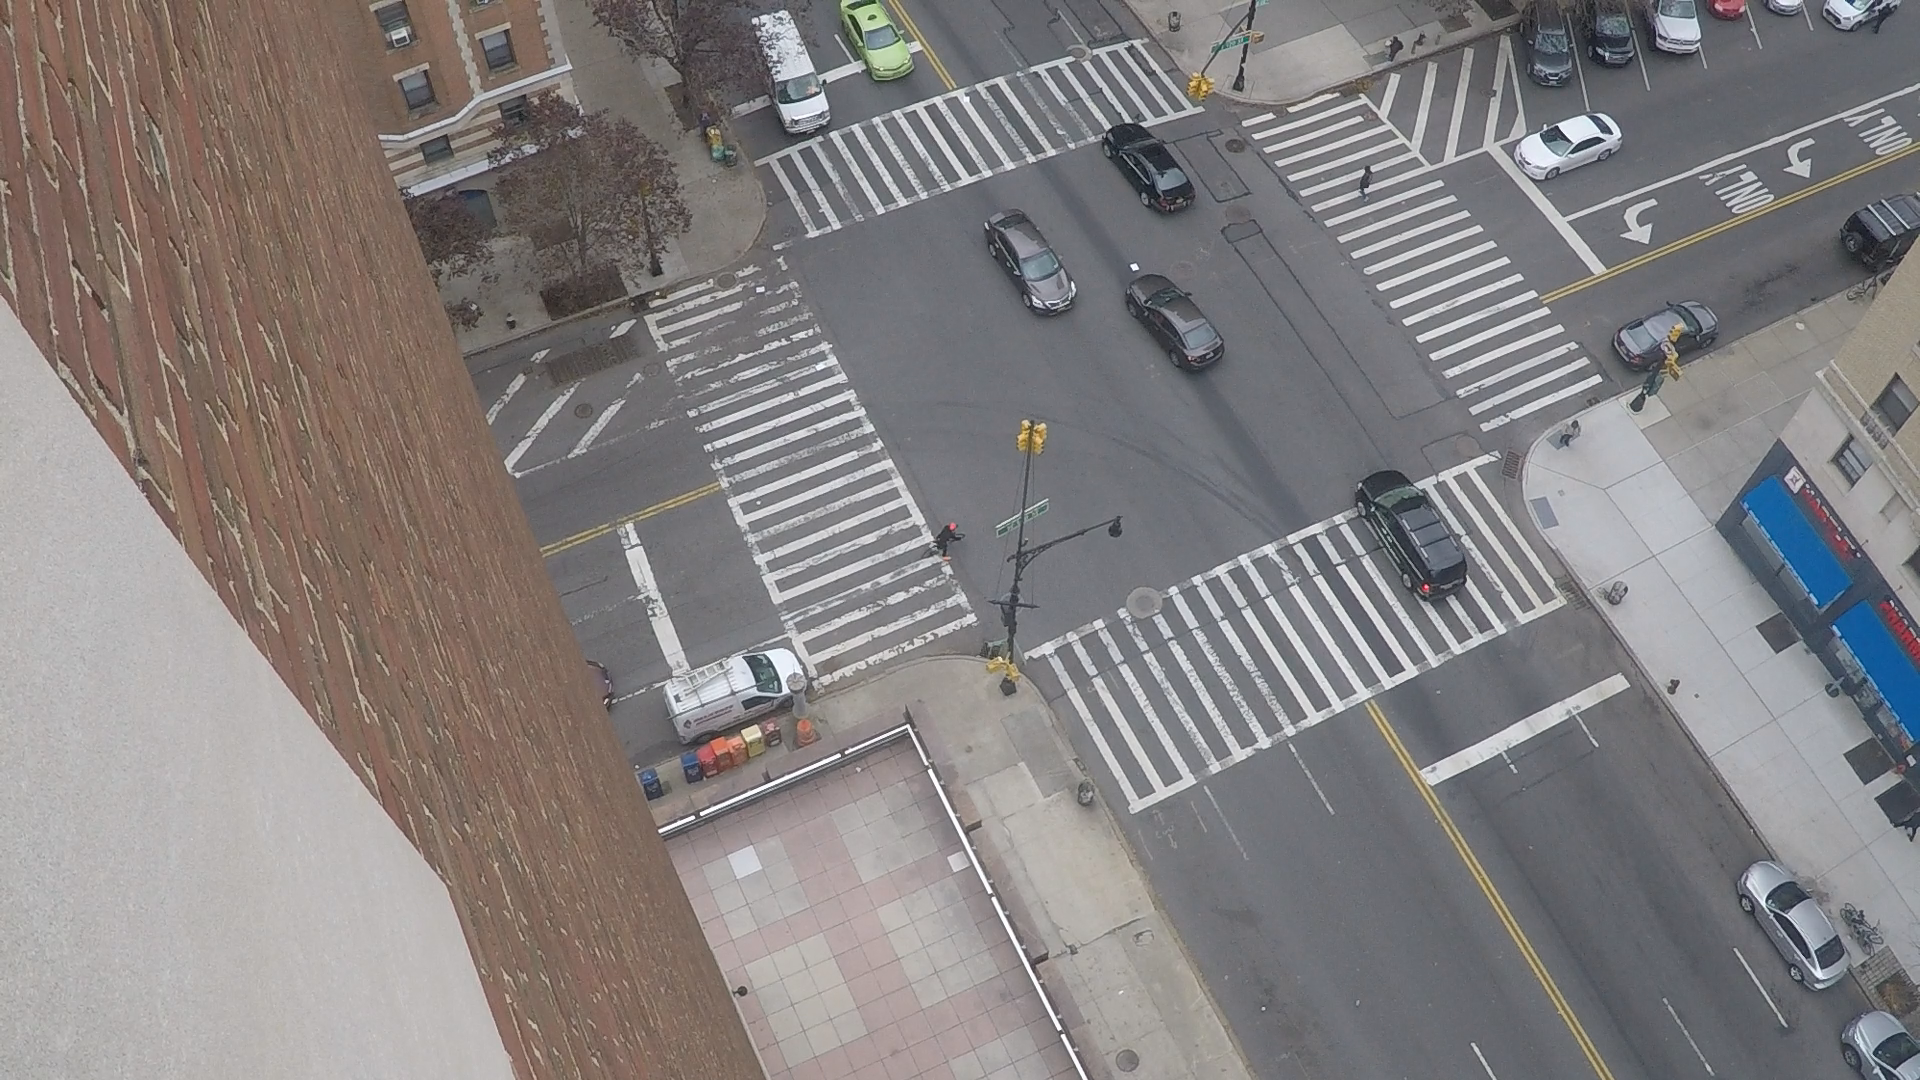Car: (789, 7, 818, 69), (887, 9, 899, 30), (584, 659, 603, 662), (1760, 0, 1764, 5), (1643, 0, 1644, 9), (1704, 0, 1705, 7)
